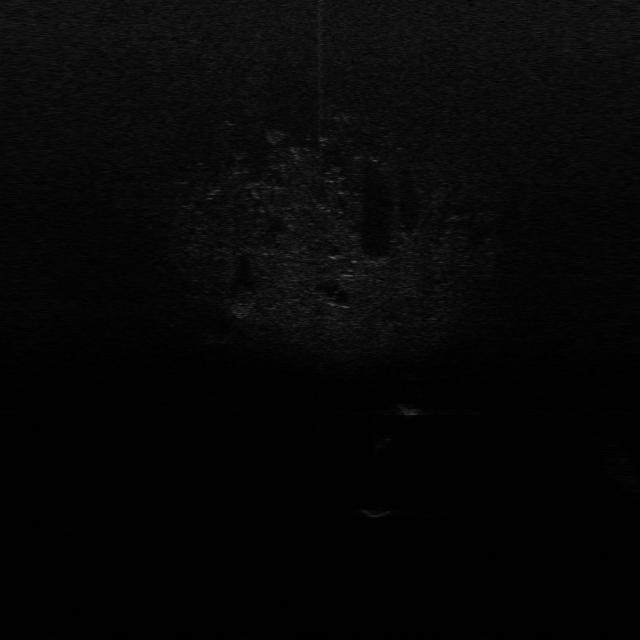cube: (358, 505, 397, 520)
square cage: (394, 400, 426, 418)
